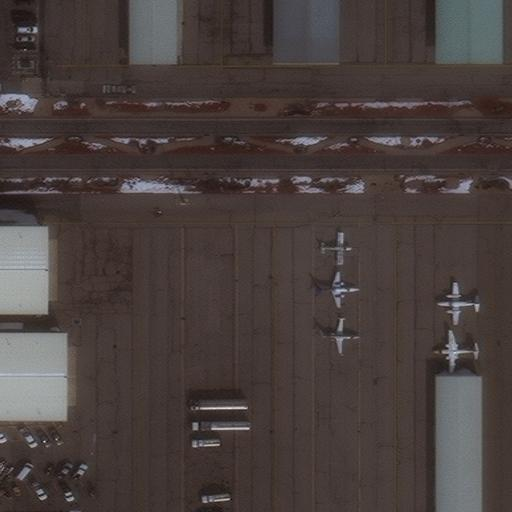Small Civil Transport: (432, 330, 480, 372), (436, 282, 480, 325), (315, 271, 359, 308), (319, 318, 359, 352), (320, 231, 352, 264)
